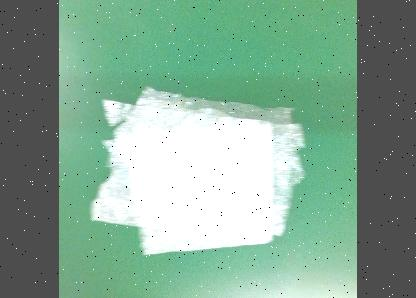Others: (86, 86, 306, 256)
